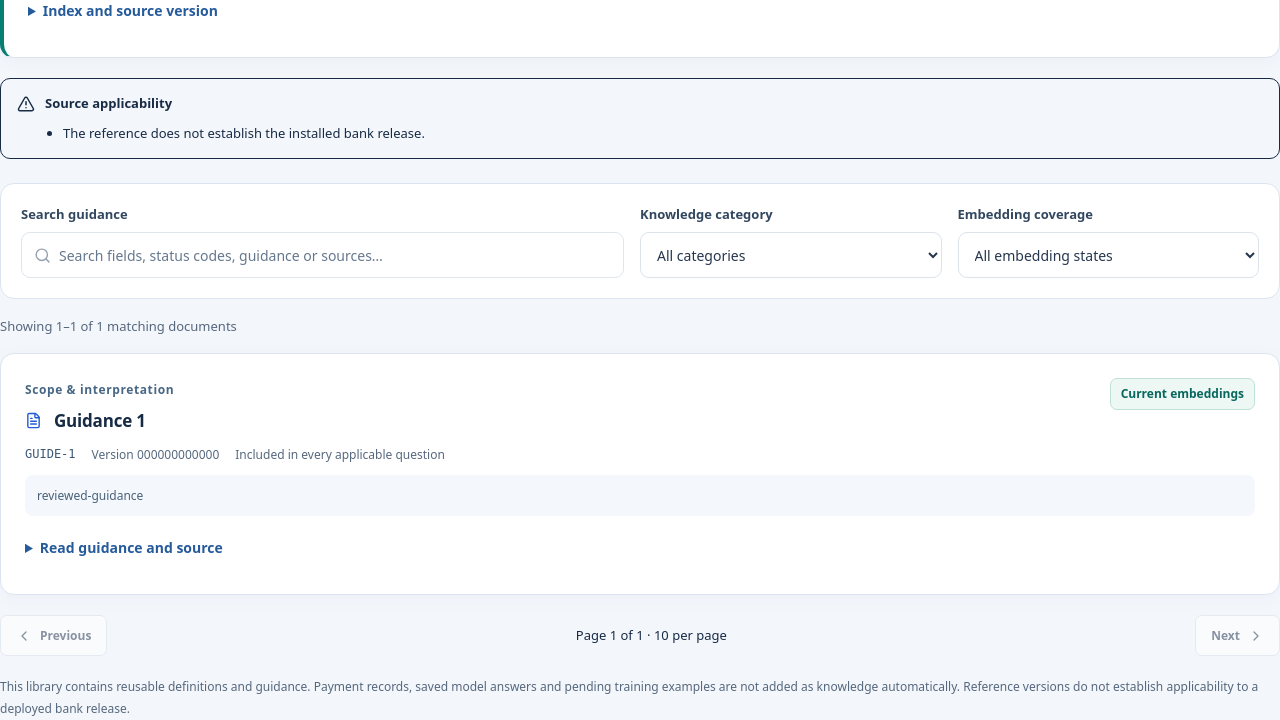
case knowledge library › accepts absent source coordinates represented as null without inventing a locator
The image size is (1280, 720).
(page scrolled)
Expected: the element that starts with "Scope & interpretation" is shown, [0,352,1279,595]
Click the heading "Read guidance and source" at (131, 548), box [40,538,223,557]
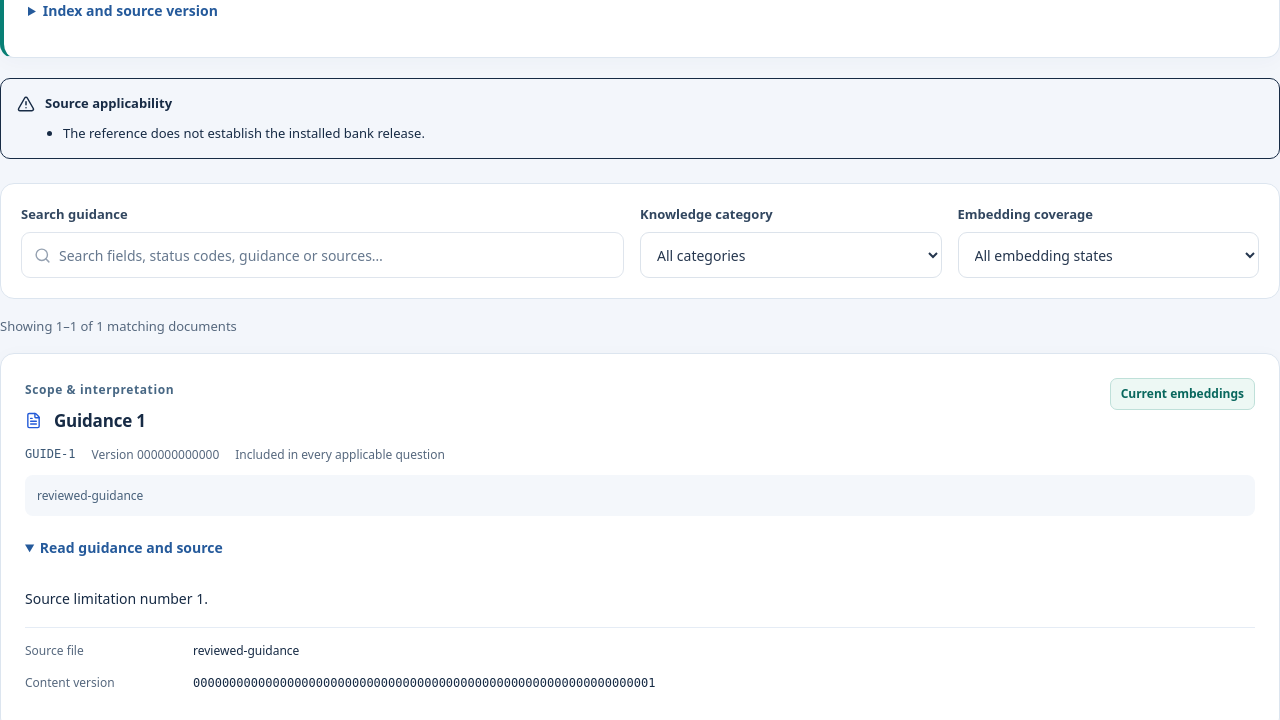
Expected: the text "Source file" is shown, [25,642,84,659]
